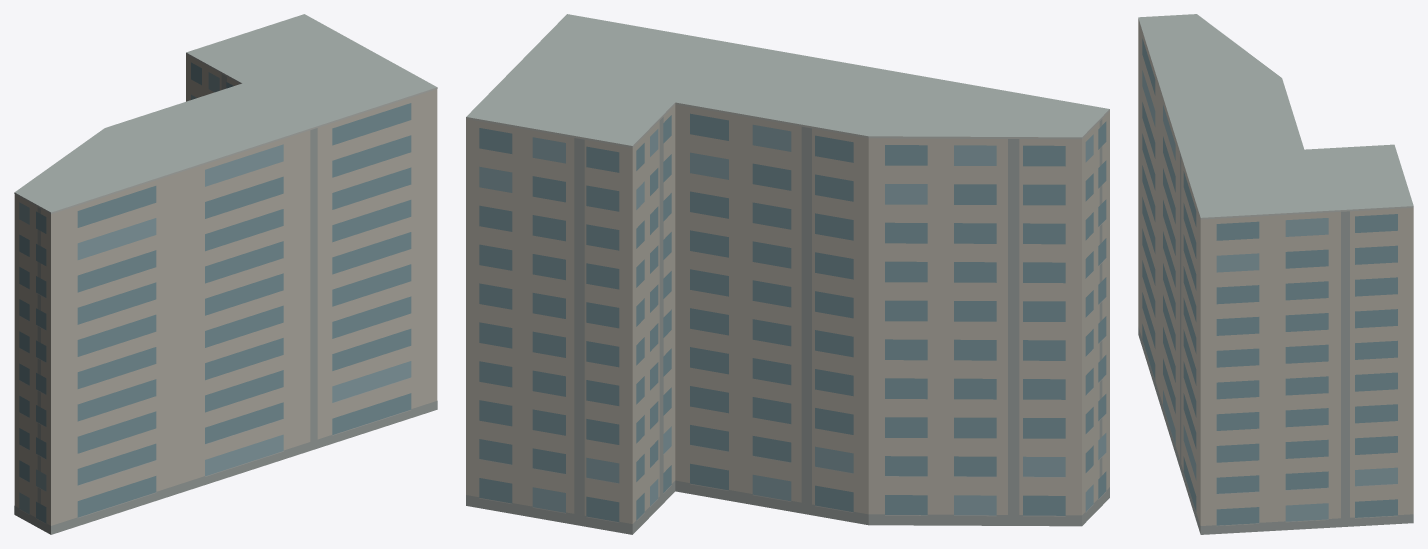
Rendered from residential-68a105d3-7c4e-403b-be86-ff4b58c43ea8.glb.
3 views of the same model, side by side, from view 1: azimuth 30°, elevation 25°; view 2: azimuth 150°, elevation 25°; view 3: azimuth 270°, elevation 25° (orthographic). The views are drawn at different scales.
Parts seen in each view (by area): view 1: residential-68a105d3-7c4e-403b-be86-ff4b58c43ea8.tmp; view 2: residential-68a105d3-7c4e-403b-be86-ff4b58c43ea8.tmp; view 3: residential-68a105d3-7c4e-403b-be86-ff4b58c43ea8.tmp.
Part boxes in pixels (x1=…): residential-68a105d3-7c4e-403b-be86-ff4b58c43ea8.tmp: x1=14, y1=14, x2=437, y2=534; residential-68a105d3-7c4e-403b-be86-ff4b58c43ea8.tmp: x1=466, y1=14, x2=1109, y2=534; residential-68a105d3-7c4e-403b-be86-ff4b58c43ea8.tmp: x1=1138, y1=14, x2=1413, y2=534.
Size of the model in its own units: 63.46 by 46 by 36.25.
